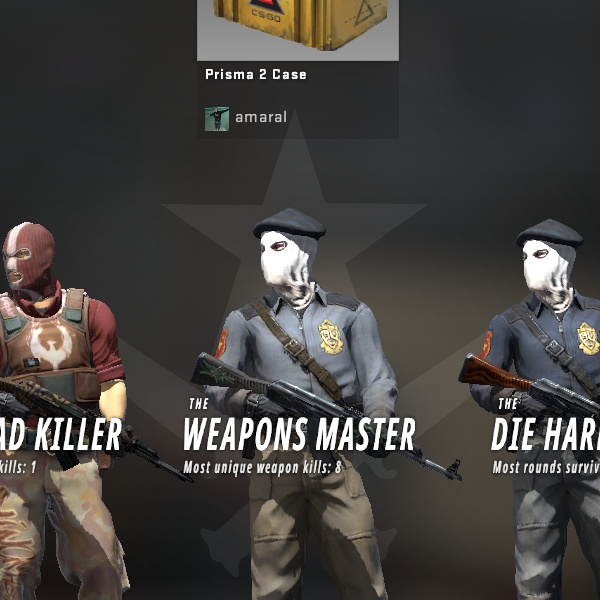t_body: (0, 194, 165, 600)
t_head: (0, 207, 86, 318)
